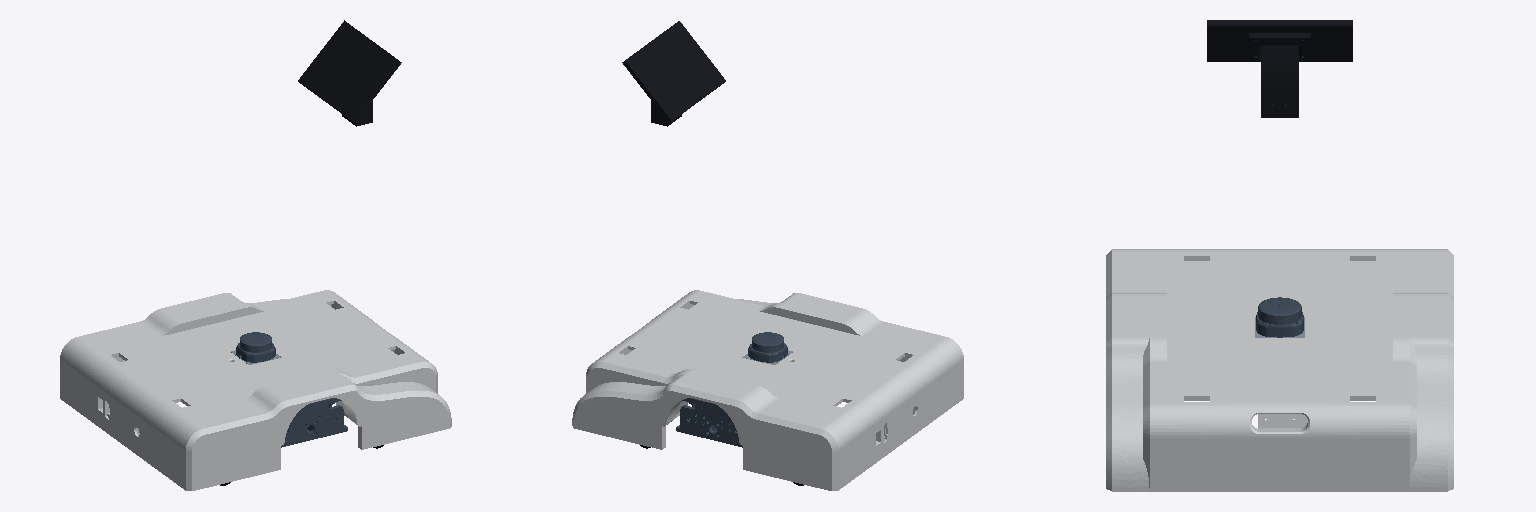
URDF robot description (capstone_amr):
<?xml version="1.0" ?>
<!-- =================================================================================== -->
<!-- |    This document was autogenerated by xacro from amr_description/urdf/capstone_amr.urdf.xacro | -->
<!-- |    EDITING THIS FILE BY HAND IS NOT RECOMMENDED                                 | -->
<!-- =================================================================================== -->
<robot name="capstone_amr">
  <!--
    Isaac Sim source description.
    Coordinate convention: +X forward, +Y left, +Z up.
    base_link is the midpoint of the left/right drive-wheel axle.
    Mesh files use millimetres; mesh scale converts millimetres to metres.
    Geometry revision: AMR_MASTER_Linear v80.step (2026-10-16): aluminium
    profile frame with upper structure, Z10T mast, linear-guide drive-wheel
    suspension (modelled rigid) and 529 mm drive track. The base_link inertia
    box approximation from v28 is retained.
    v119 (2026-10-20) adds the four-piece housing, an Orbbec Gemini 2 depth
    camera in the housing nose (pitched 12 deg up) and the rear XT90 connector.

    Direct Isaac Sim import uses the expanded capstone_amr.urdf beside this file.
    Import as Robot Type=Wheeled, Base Type=Mobile, with self-collision disabled.
  -->
  <material name="aluminium">
    <color rgba="0.55 0.60 0.66 1"/>
  </material>
  <material name="dark_metal">
    <color rgba="0.28 0.33 0.39 1"/>
  </material>
  <material name="z10t_body">
    <color rgba="0.12 0.13 0.15 1"/>
  </material>
  <material name="housing">
    <color rgba="0.82 0.83 0.84 1"/>
  </material>
  <material name="rubber">
    <color rgba="0.04 0.045 0.055 1"/>
  </material>
  <link name="base_footprint"/>
  <link name="base_link">
    <inertial>
      <origin rpy="0 0 0" xyz="0 0 -0.0115"/>
      <mass value="12.8"/>
      <inertia ixx="0.29613333333333336" ixy="0" ixz="0" iyy="0.44461333333333336" iyz="0" izz="0.7253333333333334"/>
    </inertial>
    <!-- These four STLs are already expressed in the base_link CAD frame.
         chassis.stl also carries the rear XT90 connector. -->
    <visual>
      <origin rpy="0 0 0" xyz="0 0 0"/>
      <geometry>
        <mesh filename="../meshes/visual/chassis.stl" scale="0.001 0.001 0.001"/>
      </geometry>
      <material name="aluminium"/>
    </visual>
    <!-- Linear-guide suspension brackets of both drive wheels; rigid in this model. -->
    <visual>
      <origin rpy="0 0 0" xyz="0 0 0"/>
      <geometry>
        <mesh filename="../meshes/visual/drive_suspension.stl" scale="0.001 0.001 0.001"/>
      </geometry>
      <material name="dark_metal"/>
    </visual>
    <visual>
      <origin rpy="0 0 0" xyz="0 0 0"/>
      <geometry>
        <mesh filename="../meshes/visual/z10t.stl" scale="0.001 0.001 0.001"/>
      </geometry>
      <material name="z10t_body"/>
    </visual>
    <visual>
      <origin rpy="0 0 0" xyz="0 0 0"/>
      <geometry>
        <mesh filename="../meshes/visual/housing.stl" scale="0.001 0.001 0.001"/>
      </geometry>
      <material name="housing"/>
    </visual>
    <!-- Camera geometry is lumped into base_link like the LiDAR;
         gemini2.stl is expressed in the camera_link frame. -->
    <visual>
      <origin rpy="0 -0.20943951023931953 0" xyz="0.320488 0.025 0.061017"/>
      <geometry>
        <mesh filename="../meshes/visual/gemini2.stl" scale="0.001 0.001 0.001"/>
      </geometry>
      <material name="z10t_body"/>
    </visual>
    <!-- LiDAR geometry is lumped into base_link together with its mass. -->
    <visual>
      <origin rpy="0 0 0" xyz="0 0 -0.029"/>
      <geometry>
        <mesh filename="../meshes/visual/lidar_mount.stl" scale="0.001 0.001 0.001"/>
      </geometry>
      <material name="aluminium"/>
    </visual>
    <visual>
      <origin rpy="0 0 0" xyz="0 0 0.10860500000000001"/>
      <geometry>
        <mesh filename="../meshes/visual/lidar_body.stl" scale="0.001 0.001 0.001"/>
      </geometry>
      <material name="dark_metal"/>
    </visual>
    <!-- PhysX-friendly collision boxes from the v119 part bounds. The housing
         box also covers the lower frame, the suspension brackets, the camera
         (front at X 324 mm) and the XT90 connector (rear at X -326 mm). -->
    <collision>
      <origin rpy="0 0 0" xyz="0 0 0.0125"/>
      <geometry>
        <box size="0.656 0.556 0.135"/>
      </geometry>
    </collision>
    <collision>
      <origin rpy="0 0 0" xyz="0 0.229 0.09"/>
      <geometry>
        <box size="0.228 0.098 0.02"/>
      </geometry>
    </collision>
    <collision>
      <origin rpy="0 0 0" xyz="0 -0.229 0.09"/>
      <geometry>
        <box size="0.228 0.098 0.02"/>
      </geometry>
    </collision>
    <collision>
      <origin rpy="0 0 0" xyz="0.27 0.1326 0.066"/>
      <geometry>
        <box size="0.02 0.04 0.2"/>
      </geometry>
    </collision>
    <collision>
      <origin rpy="0 0 0" xyz="0.27 -0.1326 0.066"/>
      <geometry>
        <box size="0.02 0.04 0.2"/>
      </geometry>
    </collision>
    <collision>
      <origin rpy="0 0 0" xyz="-0.26 0.1326 0.066"/>
      <geometry>
        <box size="0.02 0.04 0.2"/>
      </geometry>
    </collision>
    <collision>
      <origin rpy="0 0 0" xyz="-0.26 -0.1326 0.066"/>
      <geometry>
        <box size="0.02 0.04 0.2"/>
      </geometry>
    </collision>
    <collision>
      <origin rpy="0 0 0" xyz="0.005 0.1326 0.156"/>
      <geometry>
        <box size="0.51 0.04 0.02"/>
      </geometry>
    </collision>
    <collision>
      <origin rpy="0 0 0" xyz="0.005 -0.1326 0.156"/>
      <geometry>
        <box size="0.51 0.04 0.02"/>
      </geometry>
    </collision>
    <collision>
      <origin rpy="0 0 0" xyz="0.24 0 0.176"/>
      <geometry>
        <box size="0.04 0.3107 0.02"/>
      </geometry>
    </collision>
    <collision>
      <origin rpy="0 0 0" xyz="0.25 0 0.421"/>
      <geometry>
        <box size="0.02 0.04 0.47"/>
      </geometry>
    </collision>
    <collision>
      <origin rpy="0 0 0" xyz="0.2372 0 0.6035"/>
      <geometry>
        <box size="0.0764 0.1 0.055"/>
      </geometry>
    </collision>
    <collision>
      <origin rpy="0 0 0" xyz="0.2308 0 0.6925"/>
      <geometry>
        <box size="0.123 0.233 0.123"/>
      </geometry>
    </collision>
    <!-- v3 mount: two extended walls, two upper side walls, and top plate.
         Small counterbored screw holes are omitted from collision geometry. -->
    <collision>
      <origin rpy="0 0 0" xyz="0 -0.035 0.0185"/>
      <geometry>
        <box size="0.080 0.010 0.105"/>
      </geometry>
    </collision>
    <collision>
      <origin rpy="0 0 0" xyz="0 0.035 0.0185"/>
      <geometry>
        <box size="0.080 0.010 0.105"/>
      </geometry>
    </collision>
    <collision>
      <origin rpy="0 0 0" xyz="-0.035 0 0.046"/>
      <geometry>
        <box size="0.010 0.060 0.050"/>
      </geometry>
    </collision>
    <collision>
      <origin rpy="0 0 0" xyz="0.035 0 0.046"/>
      <geometry>
        <box size="0.010 0.060 0.050"/>
      </geometry>
    </collision>
    <collision>
      <origin rpy="0 0 0" xyz="0 0 0.076"/>
      <geometry>
        <box size="0.080 0.080 0.010"/>
      </geometry>
    </collision>
    <collision>
      <origin rpy="0 0 0" xyz="0 0 0.10026"/>
      <geometry>
        <cylinder length="0.038884" radius="0.0385"/>
      </geometry>
    </collision>
  </link>
  <joint name="base_footprint_joint" type="fixed">
    <parent link="base_footprint"/>
    <child link="base_link"/>
    <origin rpy="0 0 0" xyz="0 0 0.086"/>
  </joint>
  <link name="left_drive_wheel_link">
    <inertial>
      <origin rpy="0 0 0" xyz="0 0 0"/>
      <mass value="2.2"/>
      <inertia ixx="0.004432479333333334" ixy="0" ixz="0" iyy="0.0081356" iyz="0" izz="0.004432479333333334"/>
    </inertial>
    <visual>
      <origin rpy="0 0 0" xyz="0 -0.029118494 0"/>
      <geometry>
        <mesh filename="../meshes/visual/nurirobot_wa171_3d_v5.stl" scale="0.001004086 0.001004086 0.001004086"/>
      </geometry>
      <material name="rubber"/>
    </visual>
    <collision>
      <origin rpy="1.57079632679 0 0" xyz="0 0 0"/>
      <geometry>
        <cylinder length="0.0446" radius="0.086"/>
      </geometry>
    </collision>
  </link>
  <joint name="left_drive_wheel_joint" type="continuous">
    <parent link="base_link"/>
    <child link="left_drive_wheel_link"/>
    <origin rpy="0 0 0" xyz="0.0 0.2645 0"/>
    <axis xyz="0 1 0"/>
    <dynamics damping="0.1" friction="0.05"/>
  </joint>
  <link name="right_drive_wheel_link">
    <inertial>
      <origin rpy="0 0 0" xyz="0 0 0"/>
      <mass value="2.2"/>
      <inertia ixx="0.004432479333333334" ixy="0" ixz="0" iyy="0.0081356" iyz="0" izz="0.004432479333333334"/>
    </inertial>
    <visual>
      <origin rpy="3.14159265359 0 0" xyz="0 0.029118494 0"/>
      <geometry>
        <mesh filename="../meshes/visual/nurirobot_wa171_3d_v5.stl" scale="0.001004086 0.001004086 0.001004086"/>
      </geometry>
      <material name="rubber"/>
    </visual>
    <collision>
      <origin rpy="1.57079632679 0 0" xyz="0 0 0"/>
      <geometry>
        <cylinder length="0.0446" radius="0.086"/>
      </geometry>
    </collision>
  </link>
  <joint name="right_drive_wheel_joint" type="continuous">
    <parent link="base_link"/>
    <child link="right_drive_wheel_link"/>
    <origin rpy="0 0 0" xyz="0.0 -0.2645 0"/>
    <axis xyz="0 1 0"/>
    <dynamics damping="0.1" friction="0.05"/>
  </joint>
  <link name="front_left_caster_mount_link">
    <inertial>
      <origin rpy="0 0 0" xyz="0 0 -0.00095"/>
      <mass value="0.05"/>
      <inertia ixx="9.015041666666666e-06" ixy="0" ixz="0" iyy="1.7265041666666667e-05" iyz="0" izz="2.5883333333333333e-05"/>
    </inertial>
    <visual>
      <origin rpy="0 0 0" xyz="0 0 0.0025"/>
      <geometry>
        <mesh filename="../meshes/visual/caster_mount_fixed.stl" scale="0.001 0.001 0.001"/>
      </geometry>
      <material name="aluminium"/>
    </visual>
    <collision>
      <origin rpy="0 0 0" xyz="0 0 -0.00095"/>
      <geometry>
        <box size="0.064 0.046 0.0069"/>
      </geometry>
    </collision>
  </link>
  <joint name="front_left_caster_mount_joint" type="fixed">
    <parent link="base_link"/>
    <child link="front_left_caster_mount_link"/>
    <origin rpy="0 0 0" xyz="0.19 0.22 -0.0215"/>
  </joint>
  <link name="front_left_caster_swivel_link">
    <inertial>
      <origin rpy="0 0 0" xyz="0.003485 0 -0.025688"/>
      <mass value="0.1"/>
      <inertia ixx="2.3639298133333337e-05" ixy="0" ixz="0" iyy="3.433077280833334e-05" iyz="0" izz="2.7758141341666667e-05"/>
    </inertial>
    <visual>
      <origin rpy="0 0 0" xyz="0 0 0"/>
      <geometry>
        <mesh filename="../meshes/visual/caster_swivel_frame.stl" scale="0.001 0.001 0.001"/>
      </geometry>
      <material name="dark_metal"/>
    </visual>
  </link>
  <joint name="front_left_caster_swivel_joint" type="continuous">
    <parent link="front_left_caster_mount_link"/>
    <child link="front_left_caster_swivel_link"/>
    <origin rpy="0 0 3.14159265359" xyz="0 0 0"/>
    <axis xyz="0 0 1"/>
    <dynamics damping="0.08" friction="0.02"/>
  </joint>
  <link name="front_left_caster_wheel_link">
    <inertial>
      <origin rpy="0 0 0" xyz="0 0 0"/>
      <mass value="0.05"/>
      <inertia ixx="8.93229166666667e-06" ixy="0" ixz="0" iyy="1.265625e-05" iyz="0" izz="8.93229166666667e-06"/>
    </inertial>
    <visual>
      <origin rpy="0 0 0" xyz="-0.020 0 0.042"/>
      <geometry>
        <mesh filename="../meshes/visual/caster_wheel.stl" scale="0.001 0.001 0.001"/>
      </geometry>
      <material name="rubber"/>
    </visual>
    <collision>
      <origin rpy="1.57079632679 0 0" xyz="0 0 0"/>
      <geometry>
        <cylinder length="0.025" radius="0.0225"/>
      </geometry>
    </collision>
  </link>
  <joint name="front_left_caster_wheel_joint" type="continuous">
    <parent link="front_left_caster_swivel_link"/>
    <child link="front_left_caster_wheel_link"/>
    <origin rpy="0 0 0" xyz="0.020 0 -0.042"/>
    <axis xyz="0 1 0"/>
    <dynamics damping="0.02" friction="0.01"/>
  </joint>
  <link name="front_right_caster_mount_link">
    <inertial>
      <origin rpy="0 0 0" xyz="0 0 -0.00095"/>
      <mass value="0.05"/>
      <inertia ixx="9.015041666666666e-06" ixy="0" ixz="0" iyy="1.7265041666666667e-05" iyz="0" izz="2.5883333333333333e-05"/>
    </inertial>
    <visual>
      <origin rpy="0 0 0" xyz="0 0 0.0025"/>
      <geometry>
        <mesh filename="../meshes/visual/caster_mount_fixed.stl" scale="0.001 0.001 0.001"/>
      </geometry>
      <material name="aluminium"/>
    </visual>
    <collision>
      <origin rpy="0 0 0" xyz="0 0 -0.00095"/>
      <geometry>
        <box size="0.064 0.046 0.0069"/>
      </geometry>
    </collision>
  </link>
  <joint name="front_right_caster_mount_joint" type="fixed">
    <parent link="base_link"/>
    <child link="front_right_caster_mount_link"/>
    <origin rpy="0 0 0" xyz="0.19 -0.22 -0.0215"/>
  </joint>
  <link name="front_right_caster_swivel_link">
    <inertial>
      <origin rpy="0 0 0" xyz="0.003485 0 -0.025688"/>
      <mass value="0.1"/>
      <inertia ixx="2.3639298133333337e-05" ixy="0" ixz="0" iyy="3.433077280833334e-05" iyz="0" izz="2.7758141341666667e-05"/>
    </inertial>
    <visual>
      <origin rpy="0 0 0" xyz="0 0 0"/>
      <geometry>
        <mesh filename="../meshes/visual/caster_swivel_frame.stl" scale="0.001 0.001 0.001"/>
      </geometry>
      <material name="dark_metal"/>
    </visual>
  </link>
  <joint name="front_right_caster_swivel_joint" type="continuous">
    <parent link="front_right_caster_mount_link"/>
    <child link="front_right_caster_swivel_link"/>
    <origin rpy="0 0 3.14159265359" xyz="0 0 0"/>
    <axis xyz="0 0 1"/>
    <dynamics damping="0.08" friction="0.02"/>
  </joint>
  <link name="front_right_caster_wheel_link">
    <inertial>
      <origin rpy="0 0 0" xyz="0 0 0"/>
      <mass value="0.05"/>
      <inertia ixx="8.93229166666667e-06" ixy="0" ixz="0" iyy="1.265625e-05" iyz="0" izz="8.93229166666667e-06"/>
    </inertial>
    <visual>
      <origin rpy="0 0 0" xyz="-0.020 0 0.042"/>
      <geometry>
        <mesh filename="../meshes/visual/caster_wheel.stl" scale="0.001 0.001 0.001"/>
      </geometry>
      <material name="rubber"/>
    </visual>
    <collision>
      <origin rpy="1.57079632679 0 0" xyz="0 0 0"/>
      <geometry>
        <cylinder length="0.025" radius="0.0225"/>
      </geometry>
    </collision>
  </link>
  <joint name="front_right_caster_wheel_joint" type="continuous">
    <parent link="front_right_caster_swivel_link"/>
    <child link="front_right_caster_wheel_link"/>
    <origin rpy="0 0 0" xyz="0.020 0 -0.042"/>
    <axis xyz="0 1 0"/>
    <dynamics damping="0.02" friction="0.01"/>
  </joint>
  <link name="rear_left_caster_mount_link">
    <inertial>
      <origin rpy="0 0 0" xyz="0 0 -0.00095"/>
      <mass value="0.05"/>
      <inertia ixx="9.015041666666666e-06" ixy="0" ixz="0" iyy="1.7265041666666667e-05" iyz="0" izz="2.5883333333333333e-05"/>
    </inertial>
    <visual>
      <origin rpy="0 0 0" xyz="0 0 0.0025"/>
      <geometry>
        <mesh filename="../meshes/visual/caster_mount_fixed.stl" scale="0.001 0.001 0.001"/>
      </geometry>
      <material name="aluminium"/>
    </visual>
    <collision>
      <origin rpy="0 0 0" xyz="0 0 -0.00095"/>
      <geometry>
        <box size="0.064 0.046 0.0069"/>
      </geometry>
    </collision>
  </link>
  <joint name="rear_left_caster_mount_joint" type="fixed">
    <parent link="base_link"/>
    <child link="rear_left_caster_mount_link"/>
    <origin rpy="0 0 0" xyz="-0.19 0.22 -0.0215"/>
  </joint>
  <link name="rear_left_caster_swivel_link">
    <inertial>
      <origin rpy="0 0 0" xyz="0.003485 0 -0.025688"/>
      <mass value="0.1"/>
      <inertia ixx="2.3639298133333337e-05" ixy="0" ixz="0" iyy="3.433077280833334e-05" iyz="0" izz="2.7758141341666667e-05"/>
    </inertial>
    <visual>
      <origin rpy="0 0 0" xyz="0 0 0"/>
      <geometry>
        <mesh filename="../meshes/visual/caster_swivel_frame.stl" scale="0.001 0.001 0.001"/>
      </geometry>
      <material name="dark_metal"/>
    </visual>
  </link>
  <joint name="rear_left_caster_swivel_joint" type="continuous">
    <parent link="rear_left_caster_mount_link"/>
    <child link="rear_left_caster_swivel_link"/>
    <origin rpy="0 0 3.14159265359" xyz="0 0 0"/>
    <axis xyz="0 0 1"/>
    <dynamics damping="0.08" friction="0.02"/>
  </joint>
  <link name="rear_left_caster_wheel_link">
    <inertial>
      <origin rpy="0 0 0" xyz="0 0 0"/>
      <mass value="0.05"/>
      <inertia ixx="8.93229166666667e-06" ixy="0" ixz="0" iyy="1.265625e-05" iyz="0" izz="8.93229166666667e-06"/>
    </inertial>
    <visual>
      <origin rpy="0 0 0" xyz="-0.020 0 0.042"/>
      <geometry>
        <mesh filename="../meshes/visual/caster_wheel.stl" scale="0.001 0.001 0.001"/>
      </geometry>
      <material name="rubber"/>
    </visual>
    <collision>
      <origin rpy="1.57079632679 0 0" xyz="0 0 0"/>
      <geometry>
        <cylinder length="0.025" radius="0.0225"/>
      </geometry>
    </collision>
  </link>
  <joint name="rear_left_caster_wheel_joint" type="continuous">
    <parent link="rear_left_caster_swivel_link"/>
    <child link="rear_left_caster_wheel_link"/>
    <origin rpy="0 0 0" xyz="0.020 0 -0.042"/>
    <axis xyz="0 1 0"/>
    <dynamics damping="0.02" friction="0.01"/>
  </joint>
  <link name="rear_right_caster_mount_link">
    <inertial>
      <origin rpy="0 0 0" xyz="0 0 -0.00095"/>
      <mass value="0.05"/>
      <inertia ixx="9.015041666666666e-06" ixy="0" ixz="0" iyy="1.7265041666666667e-05" iyz="0" izz="2.5883333333333333e-05"/>
    </inertial>
    <visual>
      <origin rpy="0 0 0" xyz="0 0 0.0025"/>
      <geometry>
        <mesh filename="../meshes/visual/caster_mount_fixed.stl" scale="0.001 0.001 0.001"/>
      </geometry>
      <material name="aluminium"/>
    </visual>
    <collision>
      <origin rpy="0 0 0" xyz="0 0 -0.00095"/>
      <geometry>
        <box size="0.064 0.046 0.0069"/>
      </geometry>
    </collision>
  </link>
  <joint name="rear_right_caster_mount_joint" type="fixed">
    <parent link="base_link"/>
    <child link="rear_right_caster_mount_link"/>
    <origin rpy="0 0 0" xyz="-0.19 -0.22 -0.0215"/>
  </joint>
  <link name="rear_right_caster_swivel_link">
    <inertial>
      <origin rpy="0 0 0" xyz="0.003485 0 -0.025688"/>
      <mass value="0.1"/>
      <inertia ixx="2.3639298133333337e-05" ixy="0" ixz="0" iyy="3.433077280833334e-05" iyz="0" izz="2.7758141341666667e-05"/>
    </inertial>
    <visual>
      <origin rpy="0 0 0" xyz="0 0 0"/>
      <geometry>
        <mesh filename="../meshes/visual/caster_swivel_frame.stl" scale="0.001 0.001 0.001"/>
      </geometry>
      <material name="dark_metal"/>
    </visual>
  </link>
  <joint name="rear_right_caster_swivel_joint" type="continuous">
    <parent link="rear_right_caster_mount_link"/>
    <child link="rear_right_caster_swivel_link"/>
    <origin rpy="0 0 3.14159265359" xyz="0 0 0"/>
    <axis xyz="0 0 1"/>
    <dynamics damping="0.08" friction="0.02"/>
  </joint>
  <link name="rear_right_caster_wheel_link">
    <inertial>
      <origin rpy="0 0 0" xyz="0 0 0"/>
      <mass value="0.05"/>
      <inertia ixx="8.93229166666667e-06" ixy="0" ixz="0" iyy="1.265625e-05" iyz="0" izz="8.93229166666667e-06"/>
    </inertial>
    <visual>
      <origin rpy="0 0 0" xyz="-0.020 0 0.042"/>
      <geometry>
        <mesh filename="../meshes/visual/caster_wheel.stl" scale="0.001 0.001 0.001"/>
      </geometry>
      <material name="rubber"/>
    </visual>
    <collision>
      <origin rpy="1.57079632679 0 0" xyz="0 0 0"/>
      <geometry>
        <cylinder length="0.025" radius="0.0225"/>
      </geometry>
    </collision>
  </link>
  <joint name="rear_right_caster_wheel_joint" type="continuous">
    <parent link="rear_right_caster_swivel_link"/>
    <child link="rear_right_caster_wheel_link"/>
    <origin rpy="0 0 0" xyz="0.020 0 -0.042"/>
    <axis xyz="0 1 0"/>
    <dynamics damping="0.02" friction="0.01"/>
  </joint>
  <!--
    Fixed LiDAR assembly. The lidar_link origin is the CAD sensor origin and
    scan centre: base_link xyz = 0 0 0.108605 m, rpy = 0 0 0.
    Visuals, collisions and physical mass are lumped into base_link. These
    empty fixed links preserve the mounting and scan coordinate frames for
    an Isaac Sim RTX LiDAR prim.
  -->
  <link name="lidar_mount_link"/>
  <joint name="lidar_mount_joint" type="fixed">
    <parent link="base_link"/>
    <child link="lidar_mount_link"/>
    <origin rpy="0 0 0" xyz="0 0 -0.029"/>
  </joint>
  <link name="lidar_link"/>
  <joint name="lidar_joint" type="fixed">
    <parent link="lidar_mount_link"/>
    <child link="lidar_link"/>
    <origin rpy="0 0 0" xyz="0 0 0.137605"/>
  </joint>
  <!-- Real S2 scan axes: +X points backwards relative to the robot. -->
  <link name="laser"/>
  <joint name="laser_joint" type="fixed">
    <parent link="lidar_link"/>
    <child link="laser"/>
    <origin rpy="0 0 3.141592653589793" xyz="0 0 0"/>
  </joint>
  <!-- LSM6DSV16X chip centre measured in CAD (v119 board position, 2026-10-23);
       axes match base_link. The EKF fuses only gyro Z, so this offset does
       not change the fused yaw rate. -->
  <link name="imu_link"/>
  <joint name="imu_joint" type="fixed">
    <parent link="base_link"/>
    <child link="imu_link"/>
    <origin rpy="0 0 0" xyz="0.097 0 0.021"/>
  </joint>
  <!--
    Orbbec Gemini 2 mount frame (+X along the optical axis, +Z up, pitched
    11.25 deg up as measured; CAD 12 deg). OrbbecSDK_ROS2 publishes camera_link -> depth/color/IR and
    optical frames itself from the factory calibration, so none of those
    frames are defined here. Depth FOV 91 x 66 deg, 50 mm baseline.
  -->
  <link name="camera_link"/>
  <joint name="camera_joint" type="fixed">
    <parent link="base_link"/>
    <child link="camera_link"/>
    <origin rpy="0 -0.19634954084936207 0" xyz="0.320488 0.025 0.061017"/>
  </joint>
</robot>

--- Render facts (derived) ---
3 views of the same robot in one strip: view 1: azimuth 30°, elevation 25°; view 2: azimuth 150°, elevation 25°; view 3: azimuth 270°, elevation 25° (orthographic).
Model capstone_amr with 21 links and 20 joints (10 continuous, 10 fixed), rooted at base_footprint, posed all joints at 0.
Visible links, largest first — view 1: base_link; view 2: base_link; view 3: base_link.
Boxes of the visible links, x1,y1,x2,y2 form: base_link: (60, 20, 451, 490); base_link: (572, 21, 963, 490); base_link: (1106, 20, 1453, 491).
Bounding box of the posed robot: 0.656 × 0.556 × 0.84 m (x, y, z).
17 mesh visuals loaded from 11 distinct referenced files (8 binary STL); not drawn: 4 (reference not matched to a file when rendering).
